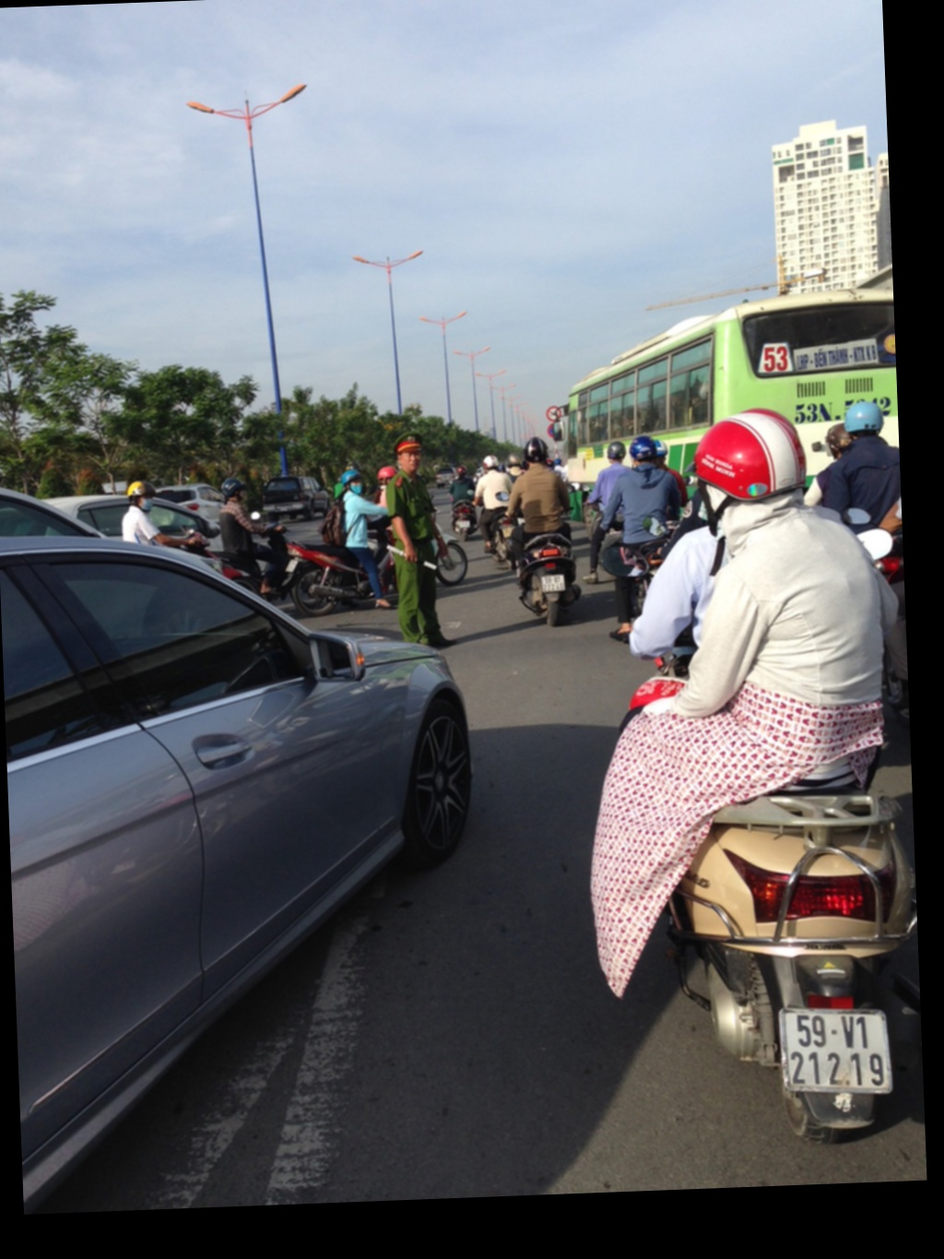Bien-so: (787, 1010, 901, 1102), (541, 571, 568, 596)
